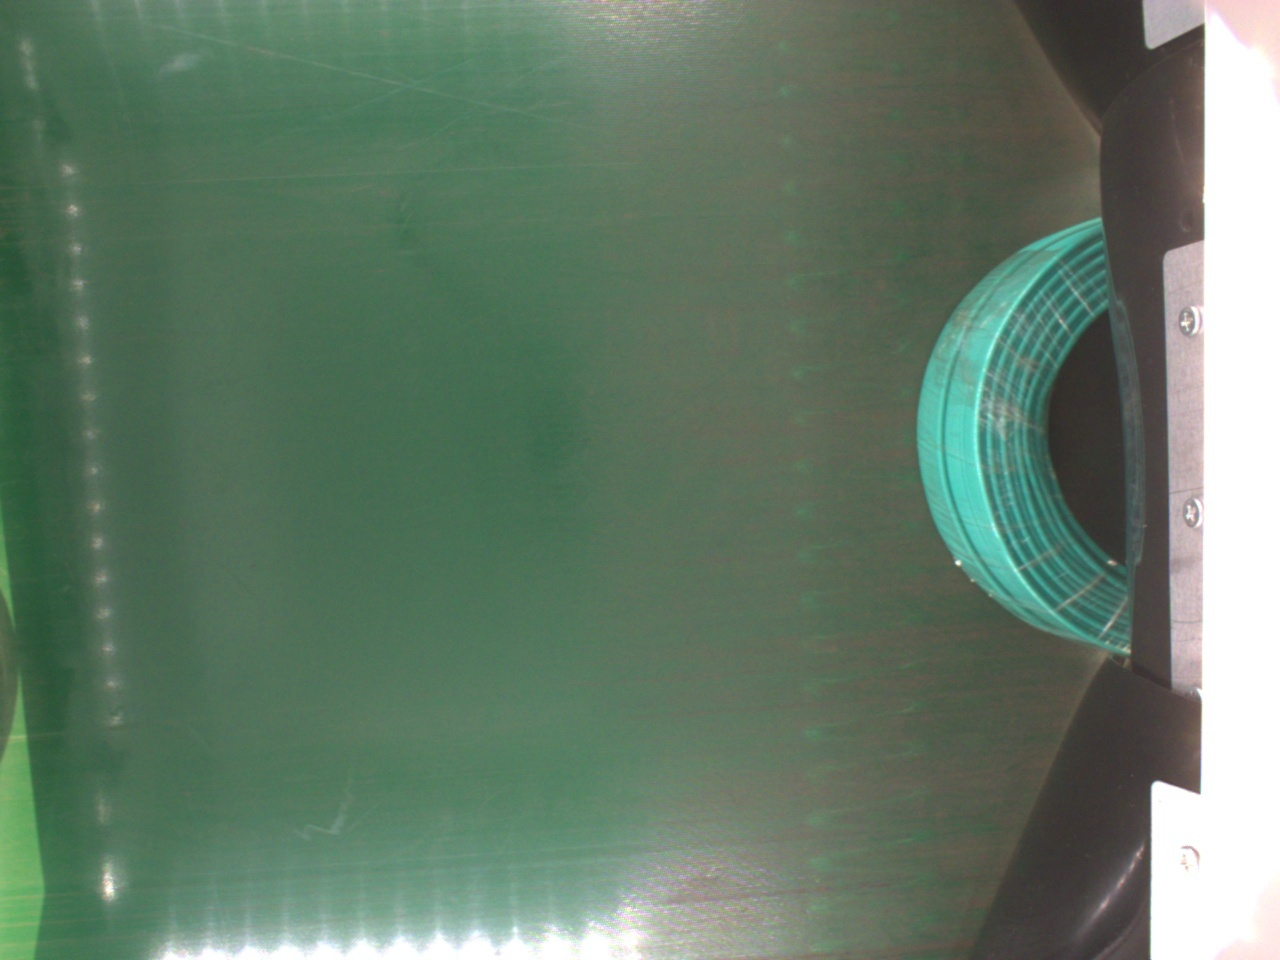green: (918, 218, 1128, 662)
